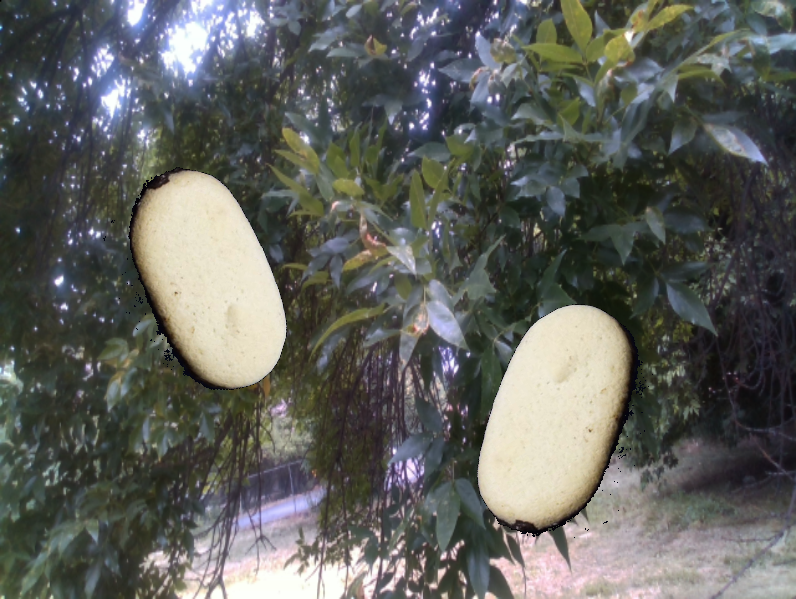test: (418, 281, 709, 572), (66, 147, 327, 409)
